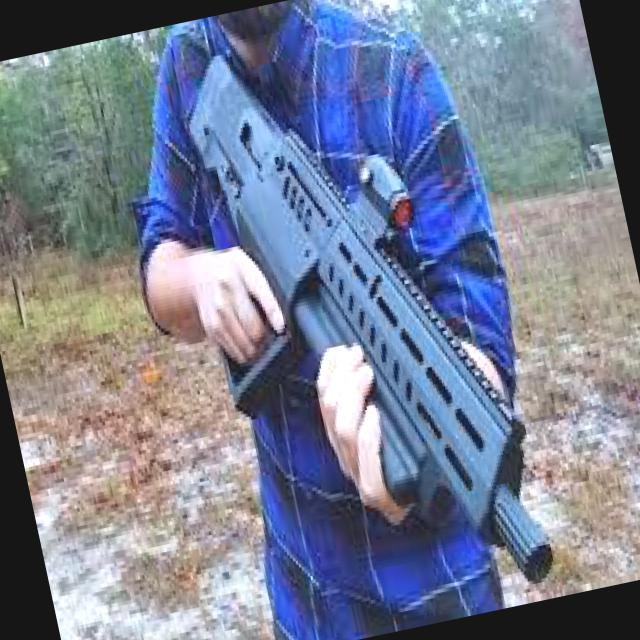long weapon: (169, 22, 584, 638)
